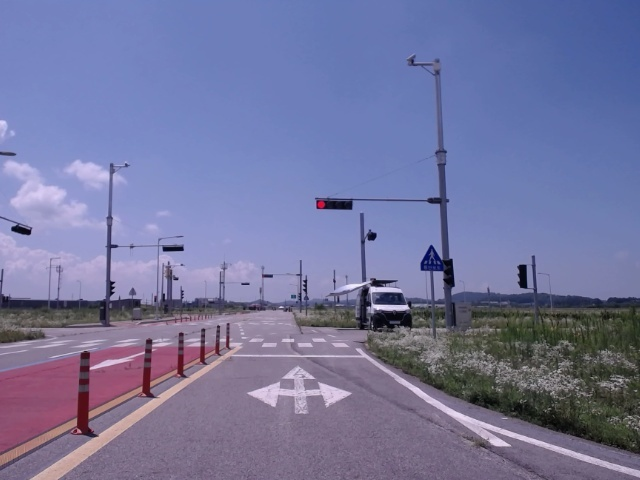red_4: (316, 199, 352, 210)
